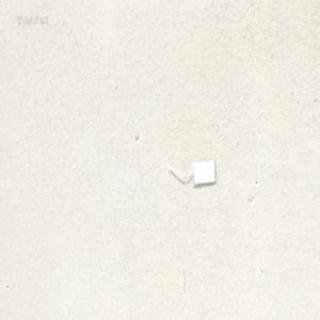LuggageTagtrack_idkeyframe: (167, 154, 227, 194)
